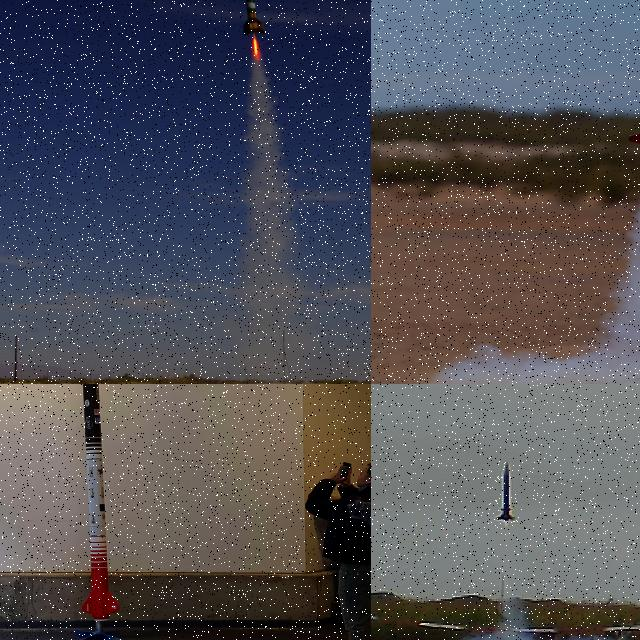Rocket: (82, 384, 120, 621), (628, 24, 640, 151), (496, 460, 516, 521), (243, 0, 265, 36)
